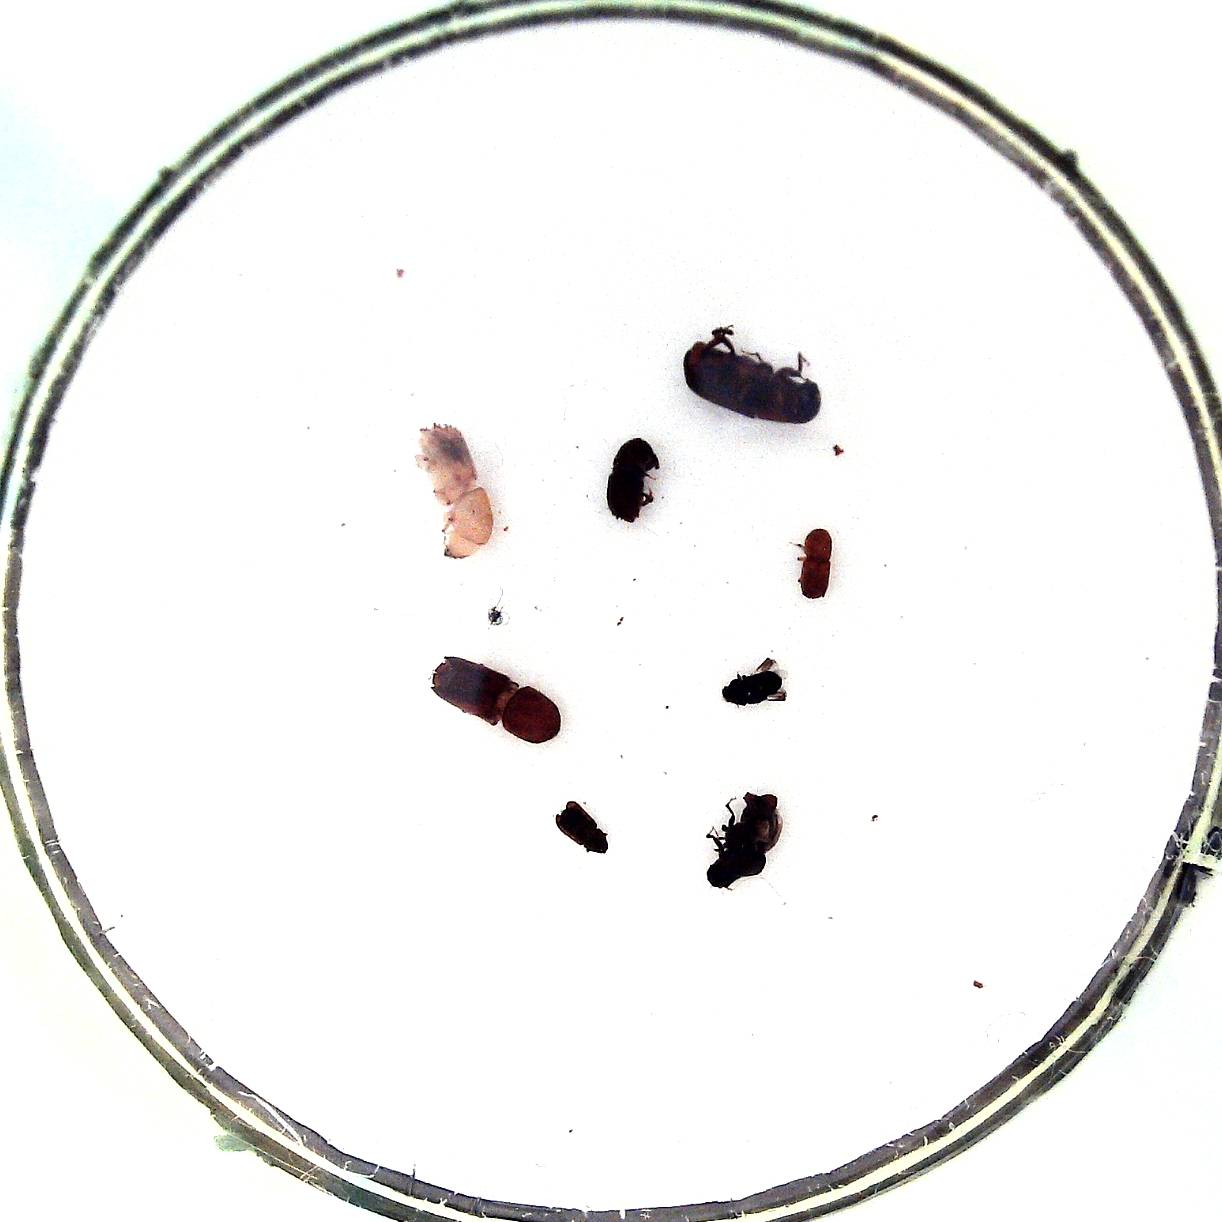Boerner: (427, 655, 561, 743), (415, 422, 495, 560)
Leconte: (683, 341, 821, 424)
acuminatus: (721, 671, 784, 705)
armandi: (706, 792, 782, 890)
coleoptera: (555, 802, 609, 855), (800, 528, 831, 599)
linnaeus: (607, 438, 659, 523)
